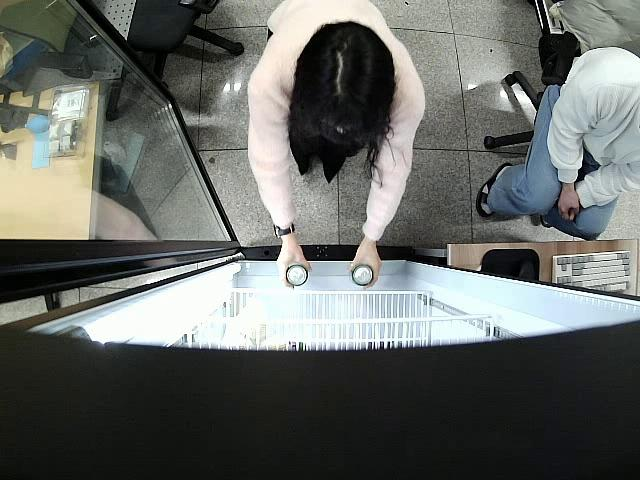00_hand: (277, 241, 313, 289), (349, 241, 382, 287)
12_chilsungCider: (350, 263, 375, 287), (285, 265, 308, 287)
